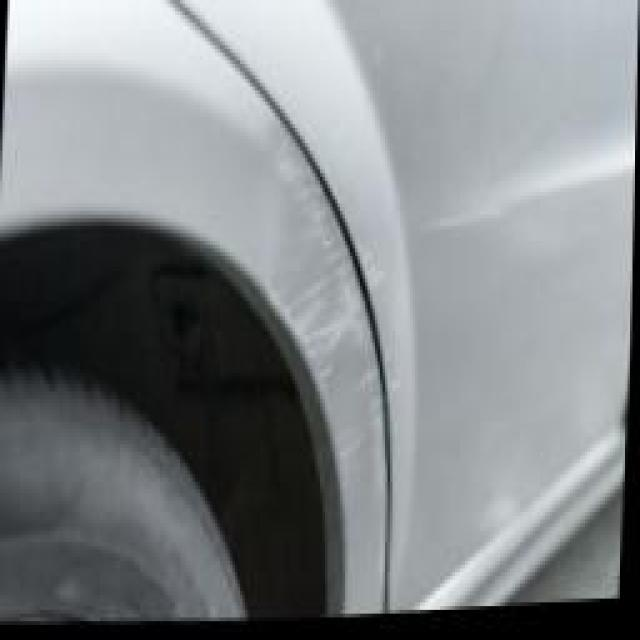Fender: (240, 113, 400, 501)
